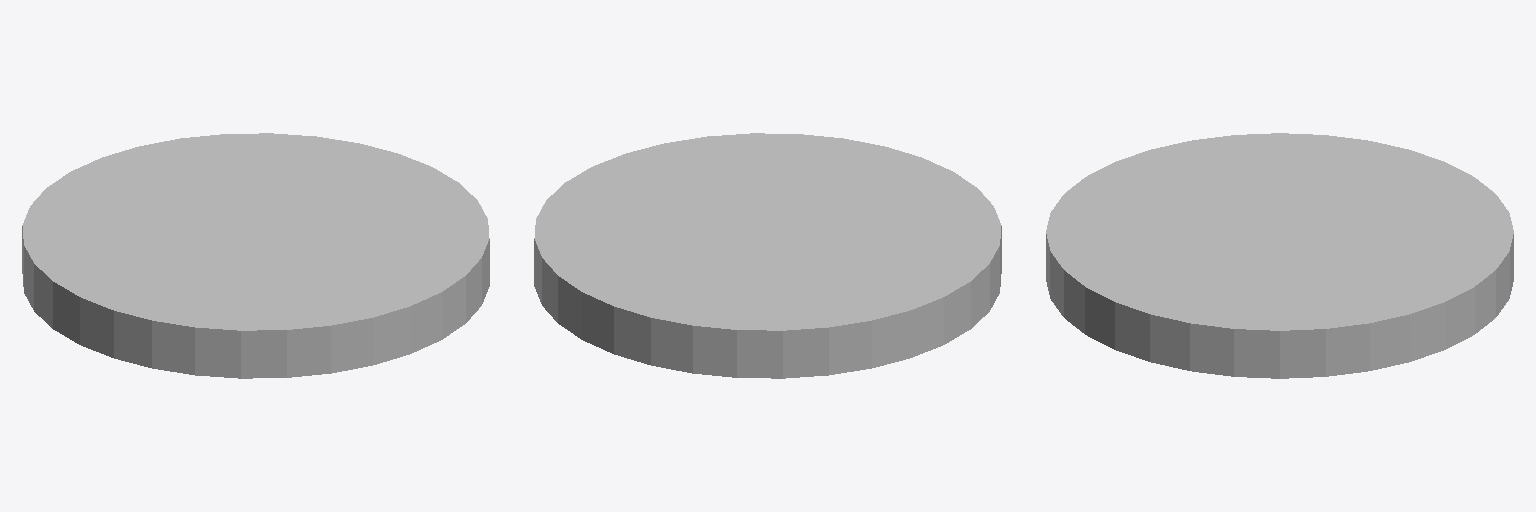
The model's file is coin.obj.
The picture shows the model from 3 angles: view 1: azimuth 30°, elevation 25°; view 2: azimuth 150°, elevation 25°; view 3: azimuth 270°, elevation 25°; orthographic projection.
Visible parts, largest first — view 1: Cylinder; view 2: Cylinder; view 3: Cylinder.
Part boxes in pixels (x1,y1,x2,y2): Cylinder: (22, 133, 489, 378); Cylinder: (534, 133, 1001, 378); Cylinder: (1046, 133, 1513, 378).
Bounding box in the file's own units: 1 × 0.1133 × 1.